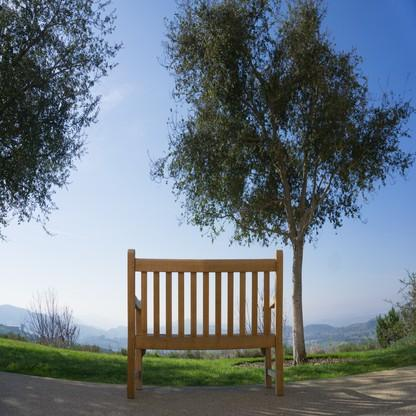obstacle: (115, 240, 298, 406)
